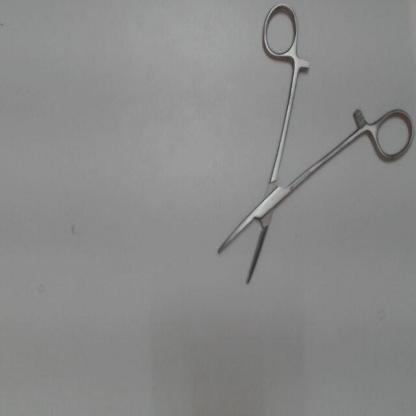Mayo Needle Holder: (206, 1, 414, 297)
